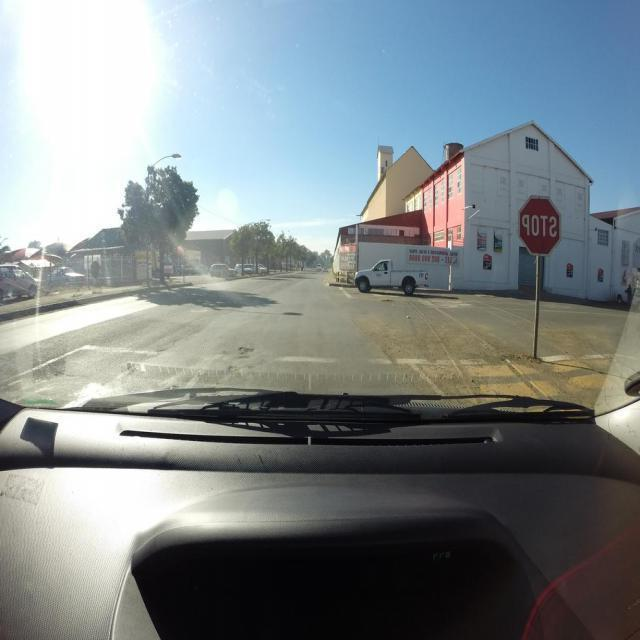pothole: (238, 347, 256, 354), (167, 385, 180, 390), (240, 355, 250, 361), (228, 366, 240, 371)
